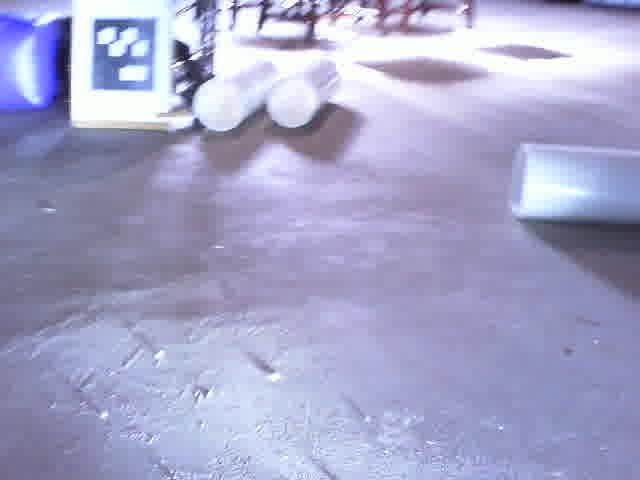coral: (511, 141, 640, 226), (192, 57, 280, 131), (267, 57, 343, 129)
